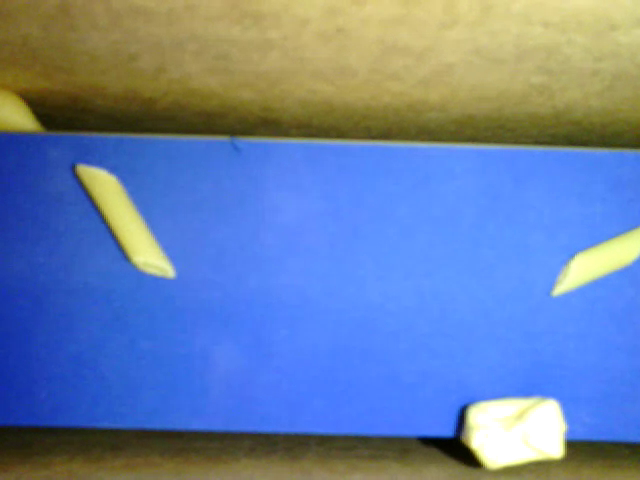penne: (75, 163, 177, 279), (550, 226, 639, 298)
tortellini: (461, 397, 566, 472)
